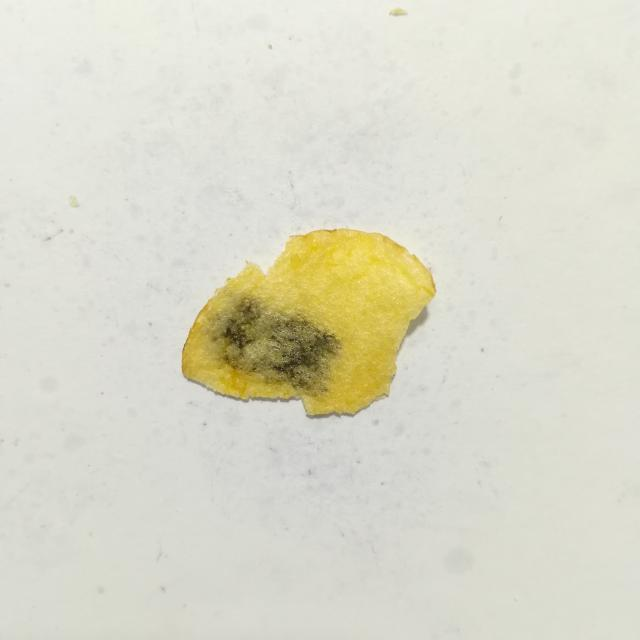chip: (182, 229, 435, 415)
semi-damaged: (211, 296, 340, 396)
